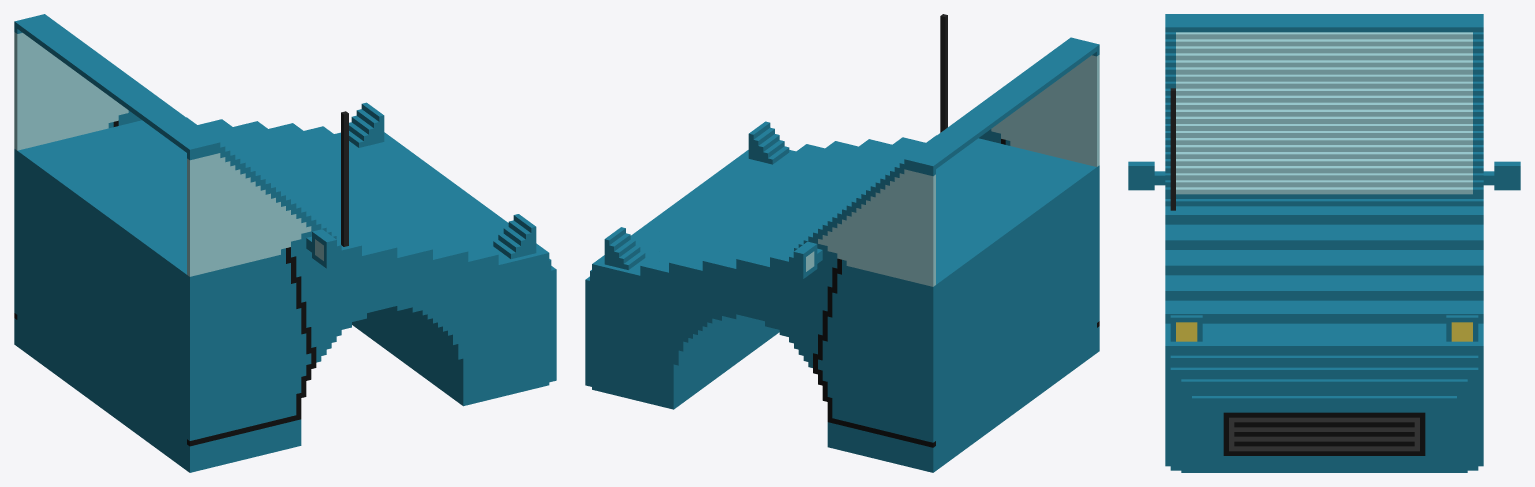
Rendered from Car-1.obj.
The picture shows the model from 3 angles, left to right: view 1: azimuth 30°, elevation 25°; view 2: azimuth 150°, elevation 25°; view 3: azimuth 270°, elevation 25°; orthographic projection. The views are drawn at different scales.
Bounding box in the file's own units: 7.5 × 6.1 × 7.4.
Materials: 1 (1 with a texture image).
